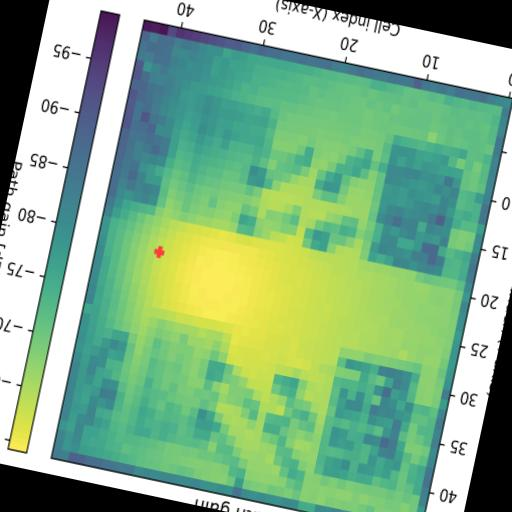Concrete: (124, 316, 232, 450)
Glass: (313, 345, 422, 490)
Metal: (154, 89, 279, 236)
Wood: (366, 136, 466, 276)
